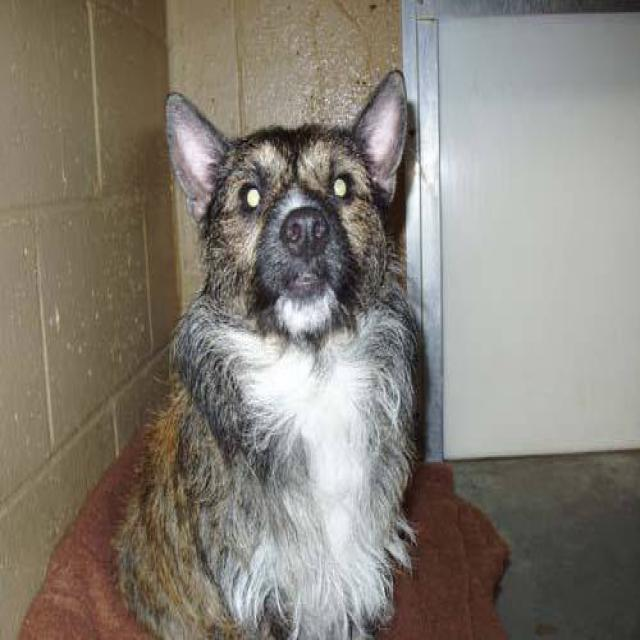dogs: (122, 53, 444, 640)
